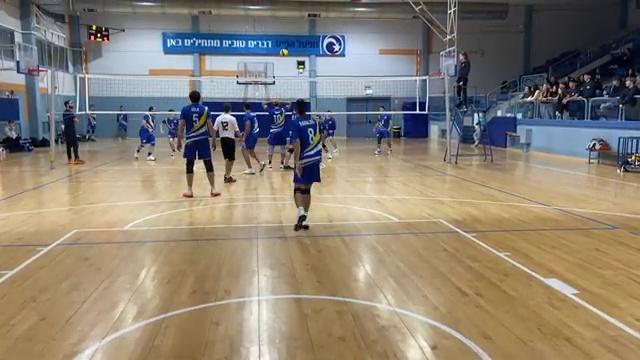ball: (277, 45, 291, 59)
